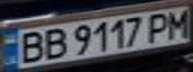1: (106, 16, 130, 48), (90, 19, 112, 52)
7: (121, 13, 148, 46)
9: (69, 22, 93, 56)
B: (12, 29, 48, 64), (36, 26, 69, 61)
M: (160, 7, 193, 39)
P: (142, 10, 175, 43)
